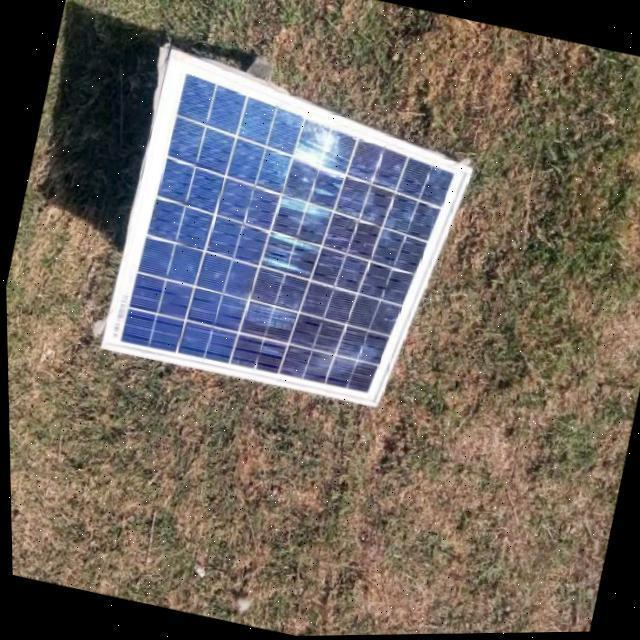Normal Solar Panel: (94, 43, 488, 422)
